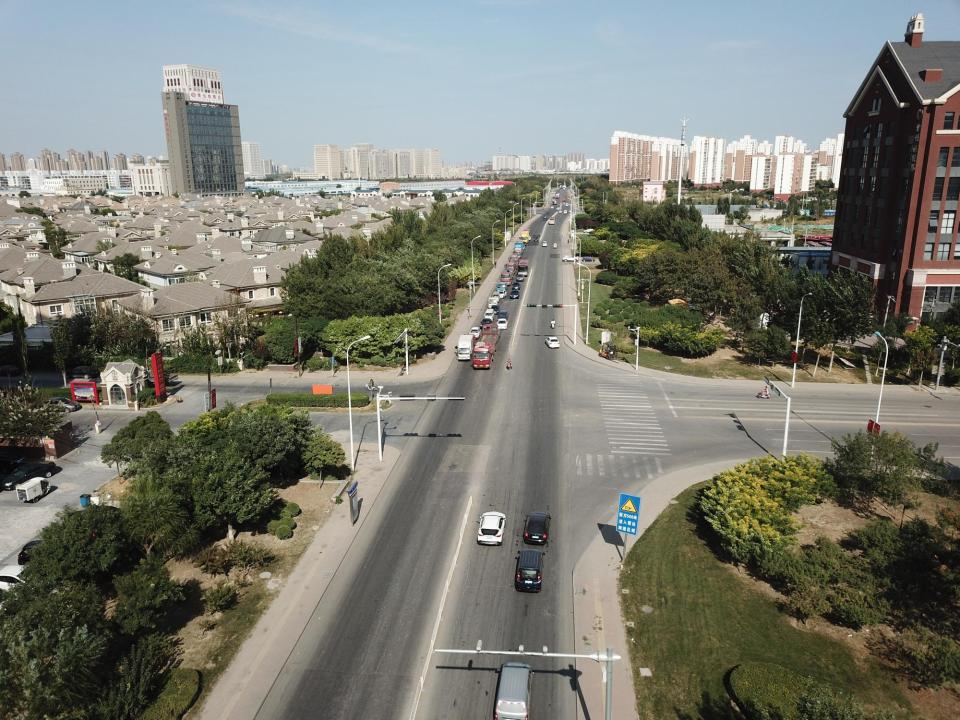bus: (796, 232, 831, 249), (805, 240, 823, 254), (807, 234, 835, 243), (518, 258, 530, 276), (821, 241, 835, 254), (820, 236, 840, 245), (549, 216, 555, 225)
car: (0, 564, 68, 606), (18, 542, 69, 567), (524, 510, 552, 544), (478, 511, 506, 542), (45, 396, 80, 414), (59, 366, 101, 379), (545, 335, 559, 349), (469, 326, 482, 339), (496, 318, 508, 330), (489, 329, 501, 340), (480, 318, 492, 328), (562, 255, 579, 262), (509, 290, 520, 298), (490, 305, 499, 314), (496, 290, 506, 298), (582, 256, 595, 262), (512, 282, 520, 289), (517, 273, 523, 281), (584, 228, 593, 233), (533, 236, 539, 242), (551, 198, 556, 202), (543, 215, 547, 218), (558, 210, 562, 213), (556, 208, 562, 210), (546, 212, 550, 214), (550, 206, 554, 208), (552, 200, 556, 202), (565, 204, 568, 206), (563, 202, 565, 205), (557, 192, 560, 194), (556, 188, 558, 190), (552, 197, 554, 198), (560, 187, 561, 189)
truck: (474, 324, 498, 368), (457, 335, 473, 360), (500, 269, 515, 285), (504, 258, 518, 273), (488, 296, 499, 308), (520, 232, 529, 244), (513, 247, 522, 258), (514, 241, 522, 253), (497, 282, 507, 291), (510, 253, 518, 262), (561, 196, 567, 202), (553, 201, 558, 205), (556, 194, 559, 198), (560, 185, 563, 188), (563, 185, 565, 189)
van: (490, 660, 534, 718), (515, 550, 546, 592), (497, 310, 508, 321), (483, 309, 494, 320), (492, 292, 499, 301), (542, 241, 548, 247), (563, 210, 567, 214)
